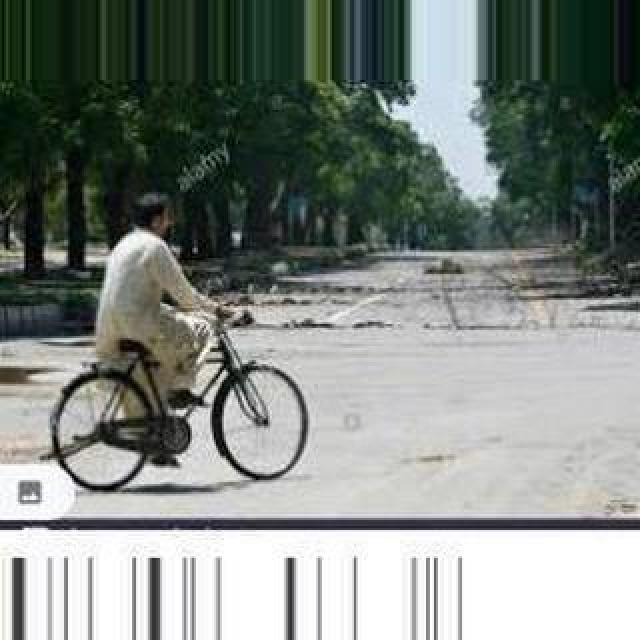MC-Bike: (90, 194, 250, 460)
Person: (47, 309, 311, 489)
